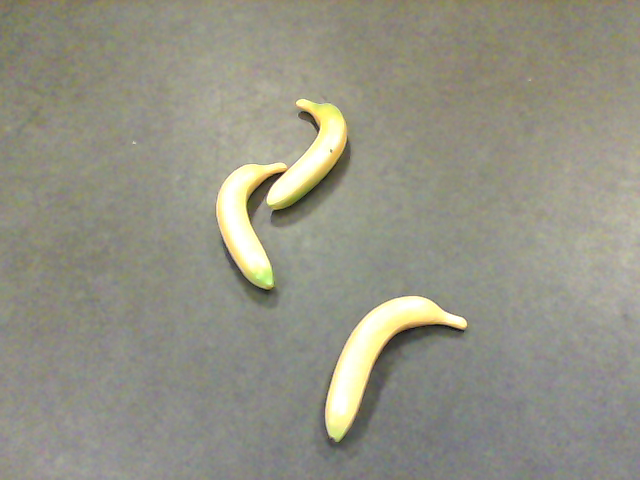banana: (324, 293, 466, 441), (266, 98, 346, 209), (218, 165, 287, 289)
